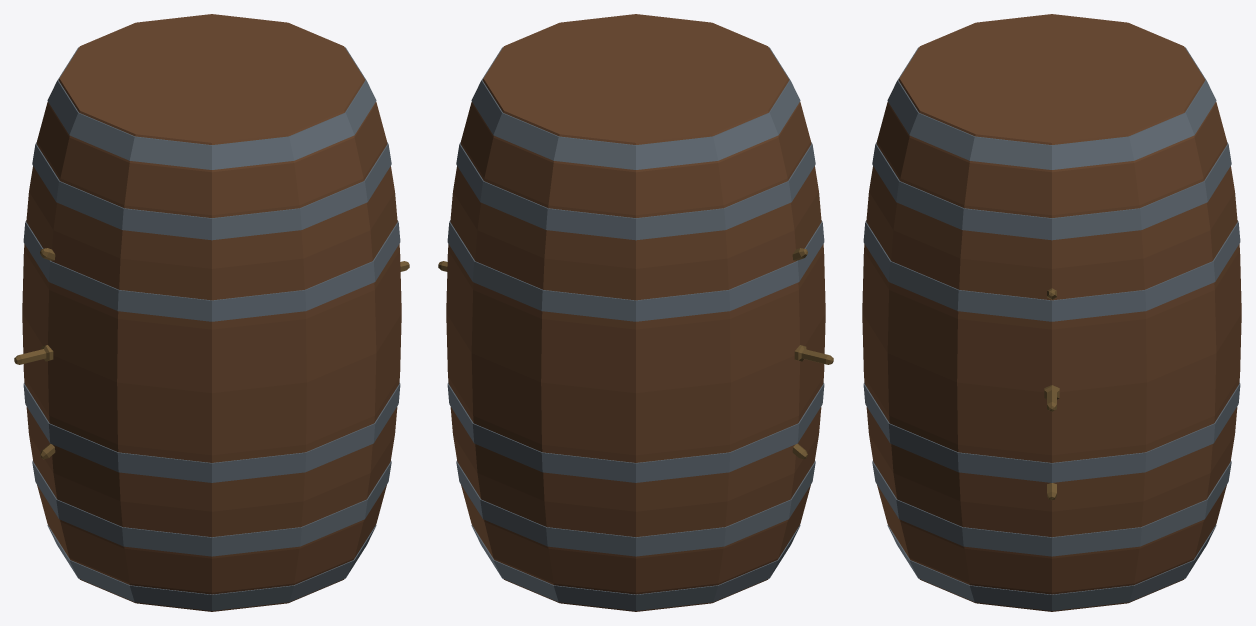
The model's file is controller.fbx.
3 renders of one model, left to right at view 1: azimuth 30°, elevation 25°; view 2: azimuth 150°, elevation 25°; view 3: azimuth 270°, elevation 25°, orthographic.
Parts seen in each view (by area): view 1: Barrel, Wheel; view 2: Barrel, Wheel; view 3: Barrel, Wheel.
Boxes of the visible parts, bbox=[...] form: Barrel: bbox=[22, 14, 401, 611]; Wheel: bbox=[14, 248, 409, 459]; Barrel: bbox=[446, 14, 825, 611]; Wheel: bbox=[438, 248, 833, 459]; Barrel: bbox=[862, 14, 1241, 611]; Wheel: bbox=[1044, 288, 1059, 500].
Size of the model in its own units: 0.816 by 0.9273 by 0.68.
